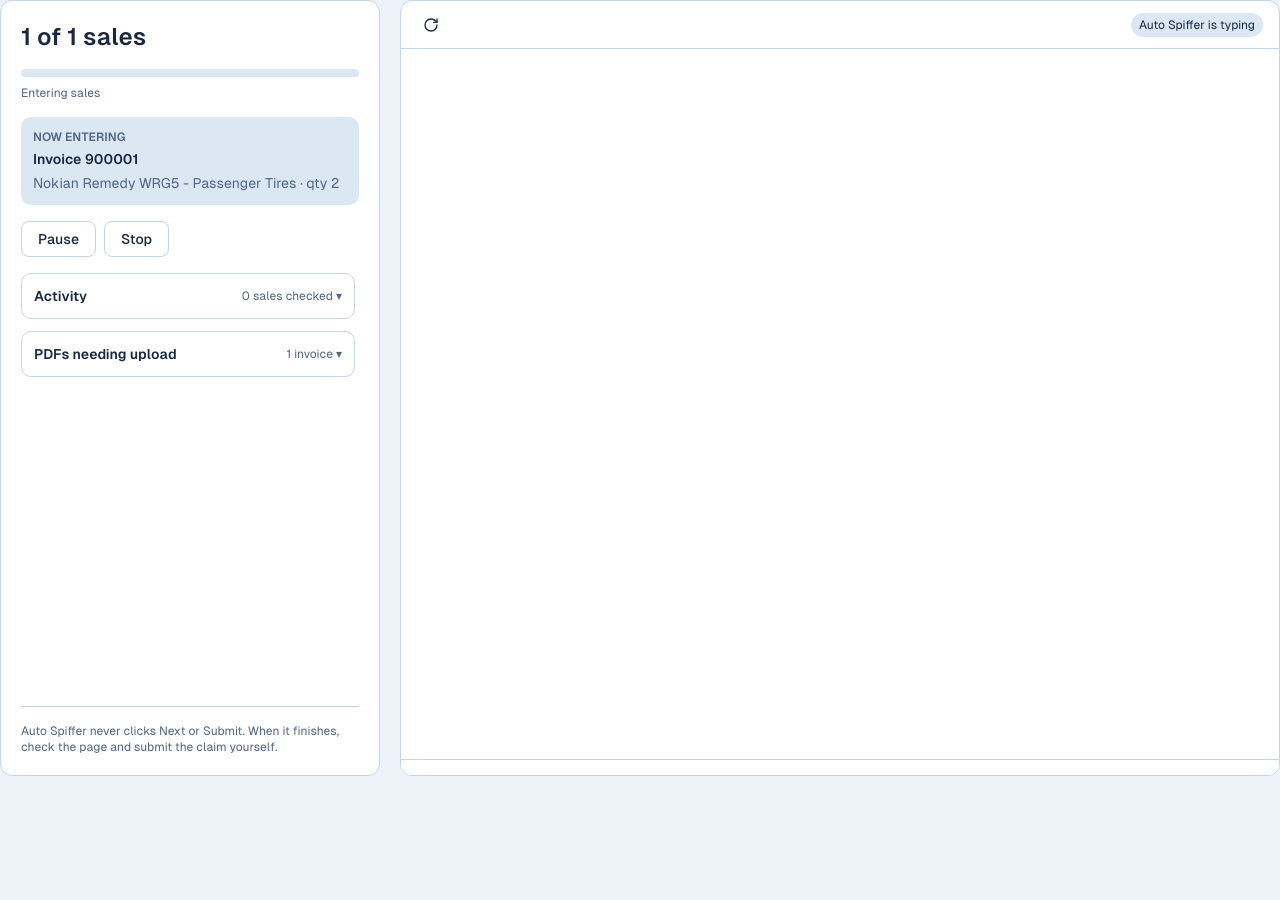
shows progress, current sale, and pause and stop controls
Expected: the heading "1 of 1 sales" is shown, [21, 23, 146, 50]
Expected: the text "Now entering" is shown, [33, 130, 125, 144]
Click the button "Activity 0 sales checked ▾".
click(61, 296)  # box [22, 274, 354, 318]
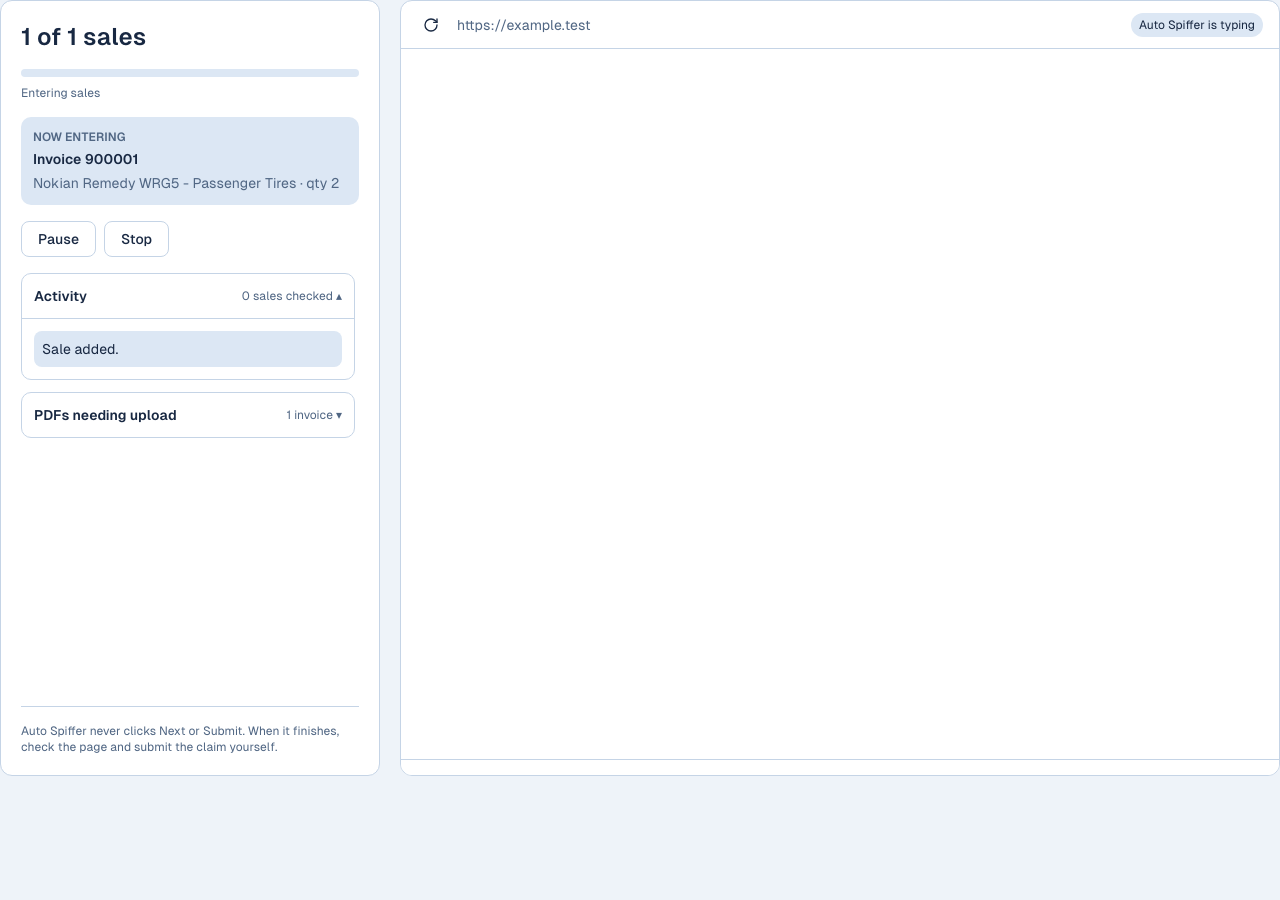
Now the list item "Sale added." is shown, box [34, 331, 342, 367]
